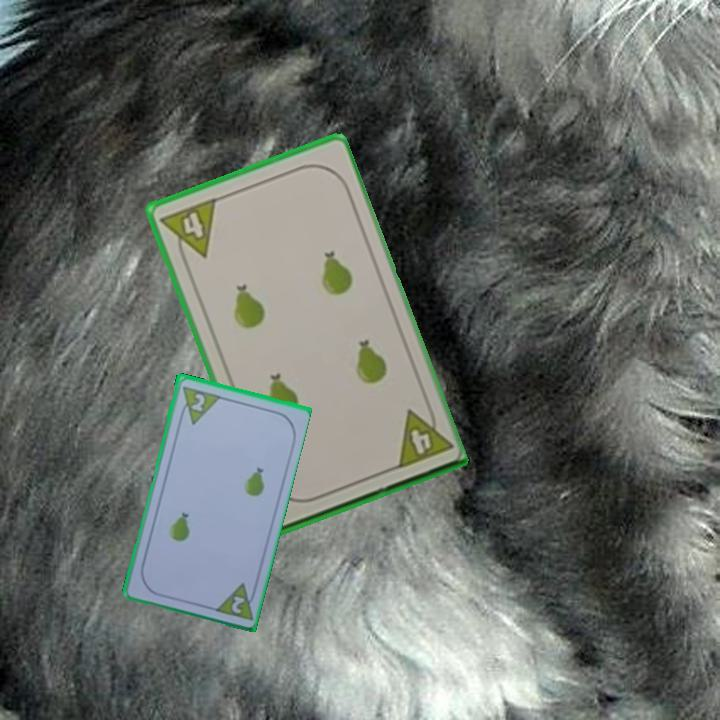2p: (188, 389, 208, 414), (227, 592, 247, 616)
4p: (156, 194, 219, 268), (391, 400, 454, 472)
